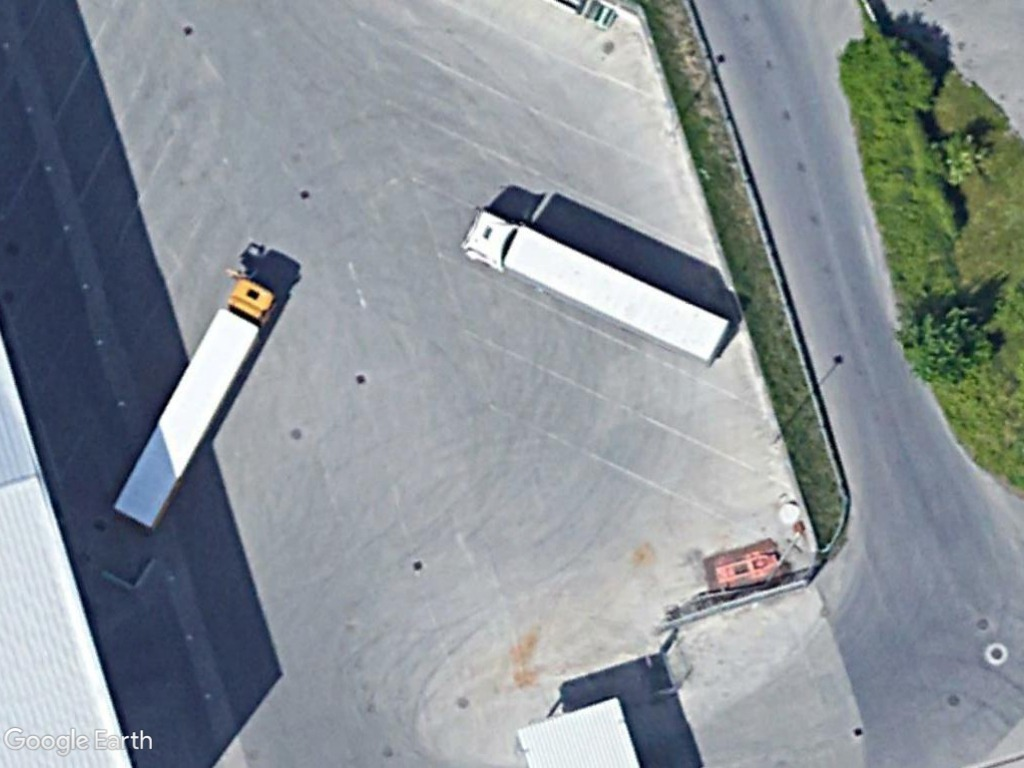longvehicle: (458, 205, 733, 384), (110, 278, 280, 534)
